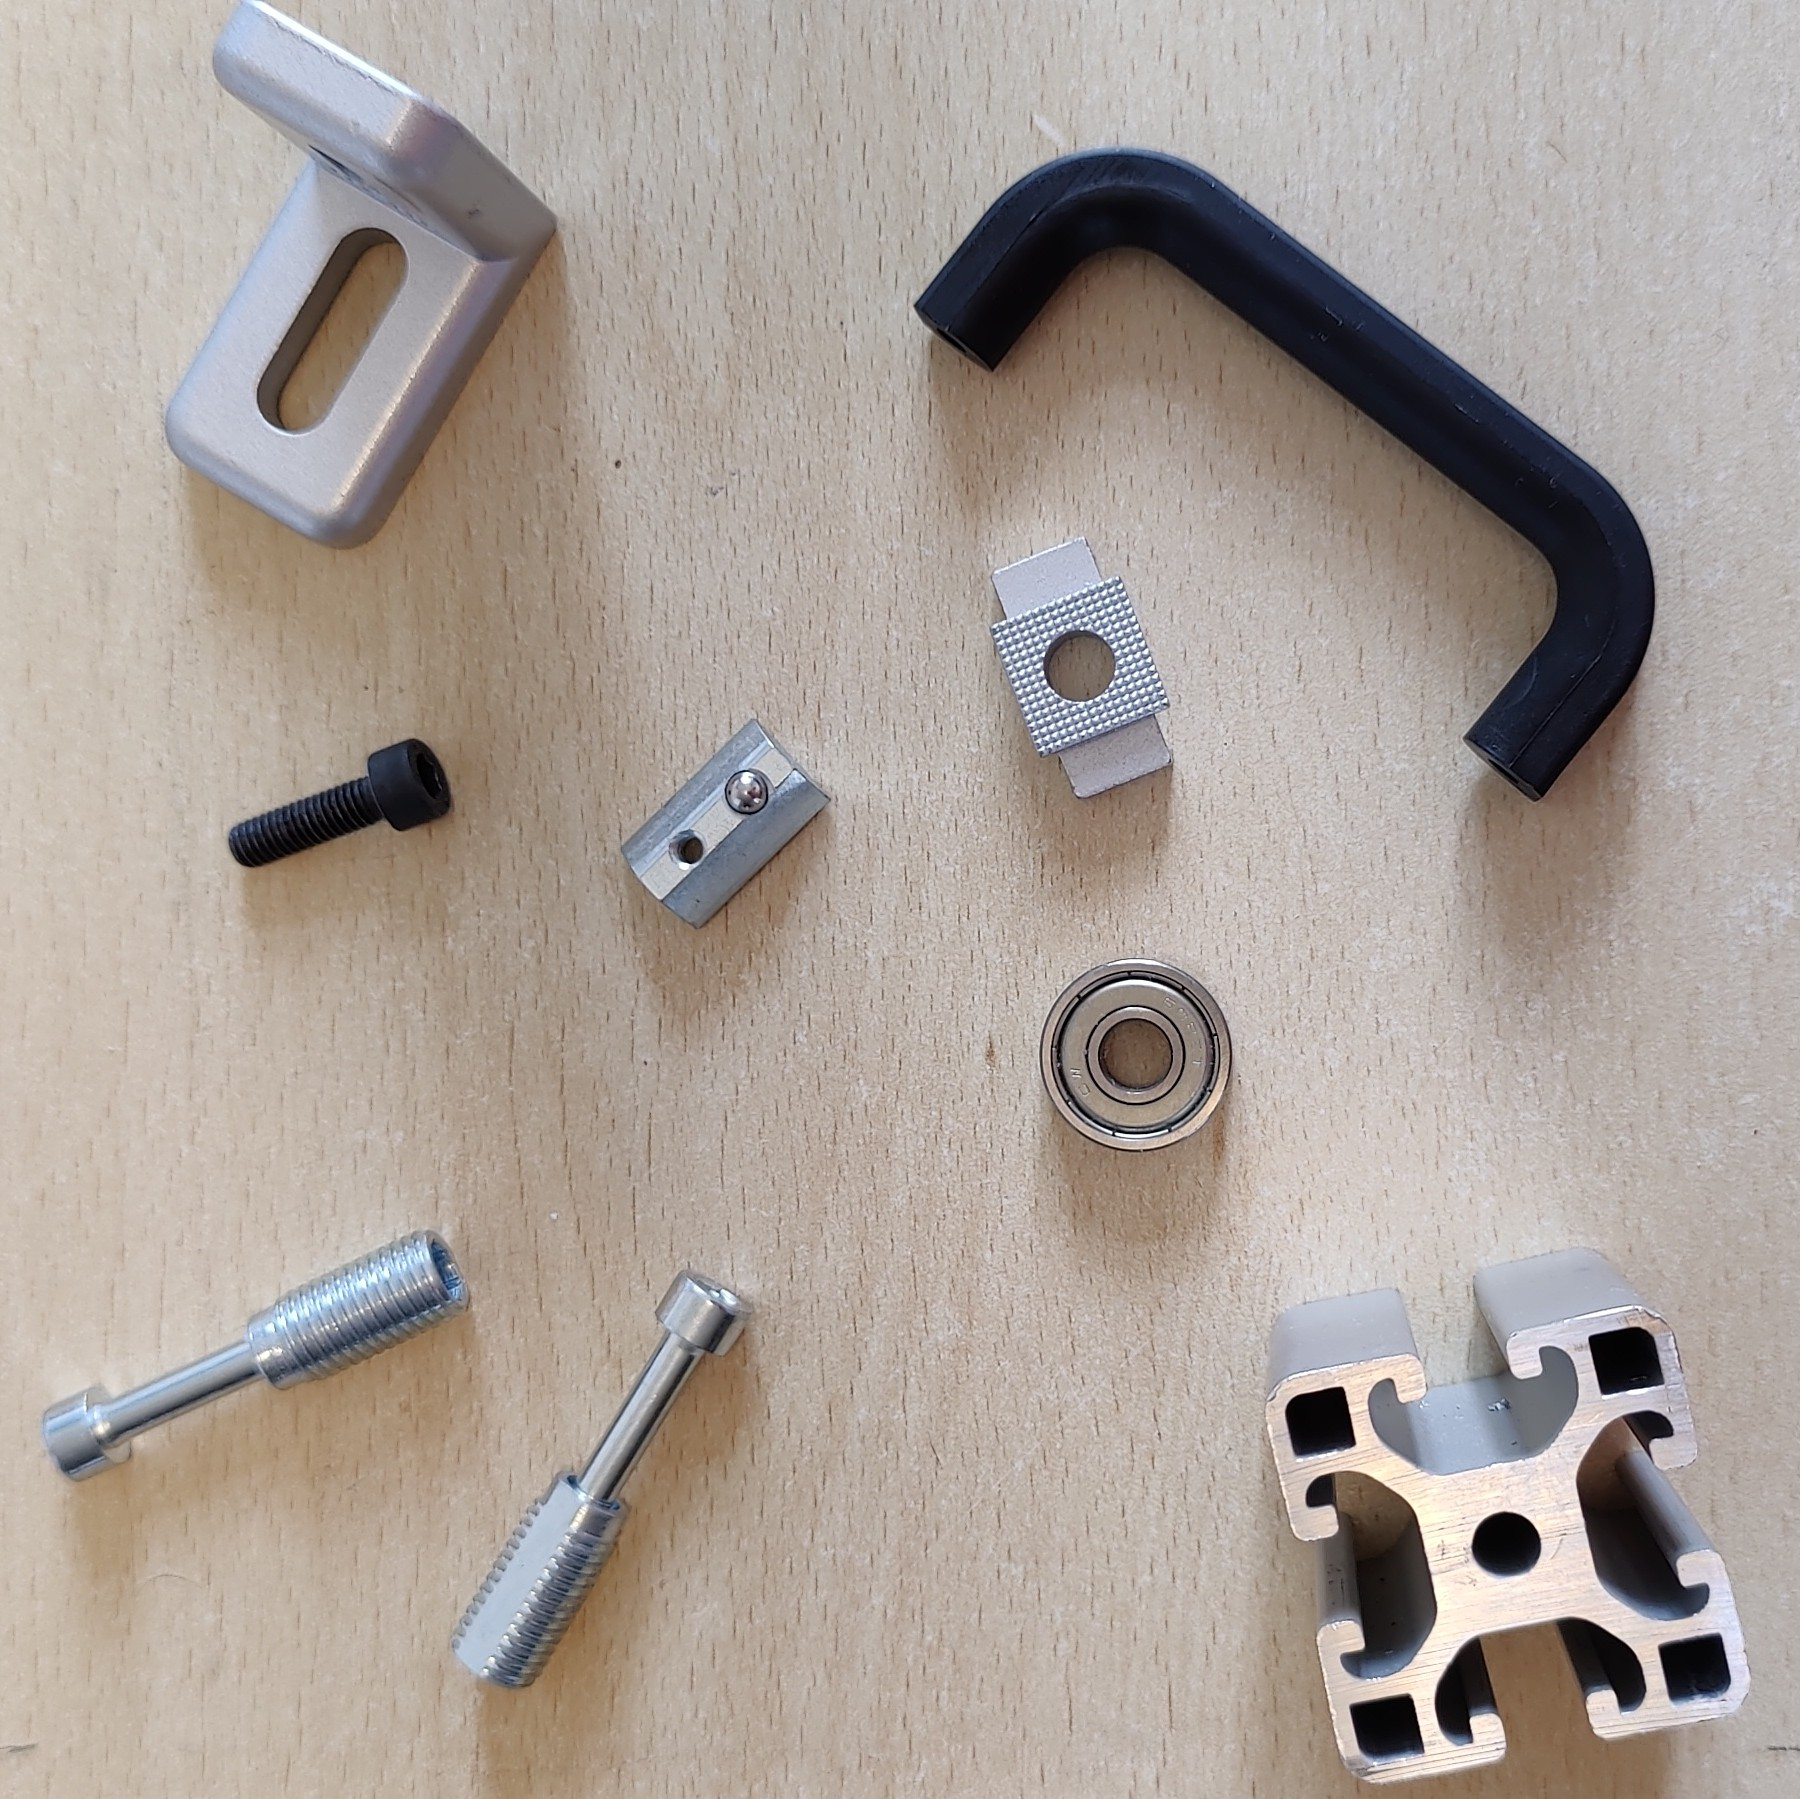Aluminium Extension: (1258, 1245, 1751, 1787)
Ball Bearing: (1038, 956, 1237, 1156)
Multiwinkel: (161, 2, 562, 554)
Pull Handle: (912, 147, 1658, 802)
Shoulder Socket Head Cap Screw: (448, 1269, 754, 1690), (40, 1222, 469, 1488)
Socket Head Cap Screw: (226, 733, 456, 871)
T Nut Square: (986, 534, 1179, 802)
T Spring Nut: (618, 712, 837, 929)
